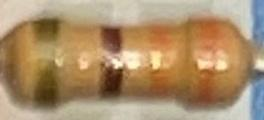Brown: (96, 22, 124, 99)
Orange: (189, 17, 219, 113), (145, 22, 174, 101)
Side-Gold: (30, 18, 63, 111)
